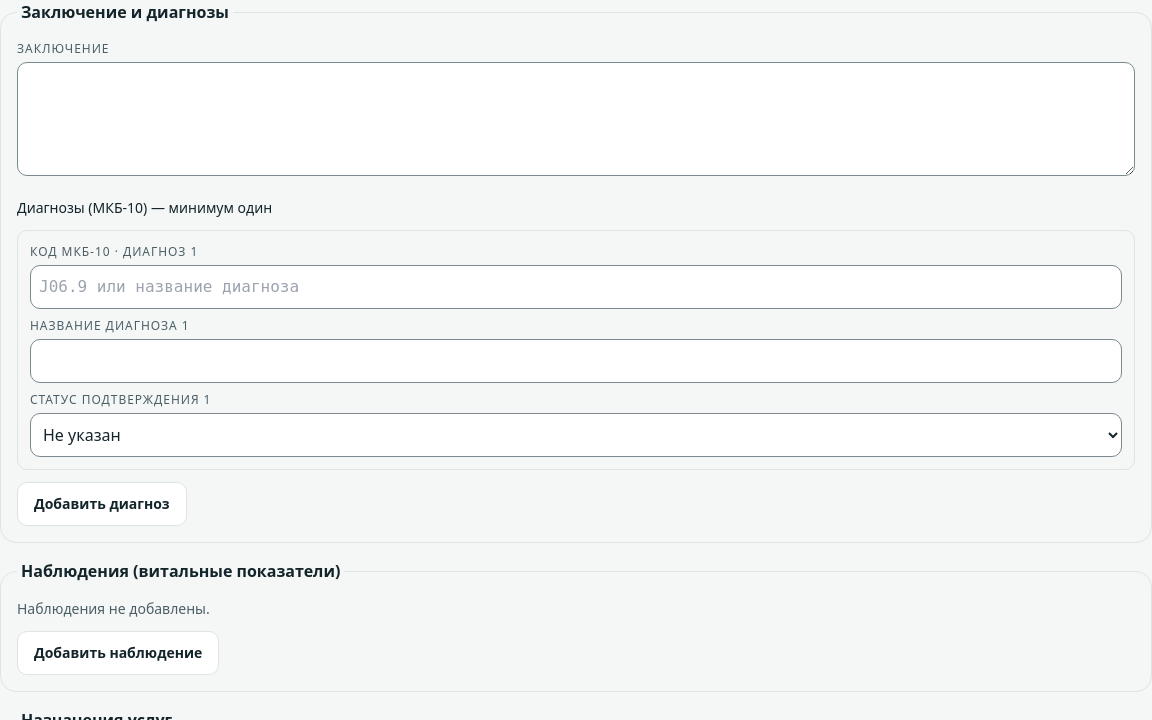
Test: EncounterCompleteForm server errors › should mark the rejected diagnosis code and focus it when the server answers INVALID_ICD10_CODE
Type "ОРВИ, состояние удовлетворительное" into the text box labelled "Заключение" at point(576, 119), box [17, 62, 1135, 176]
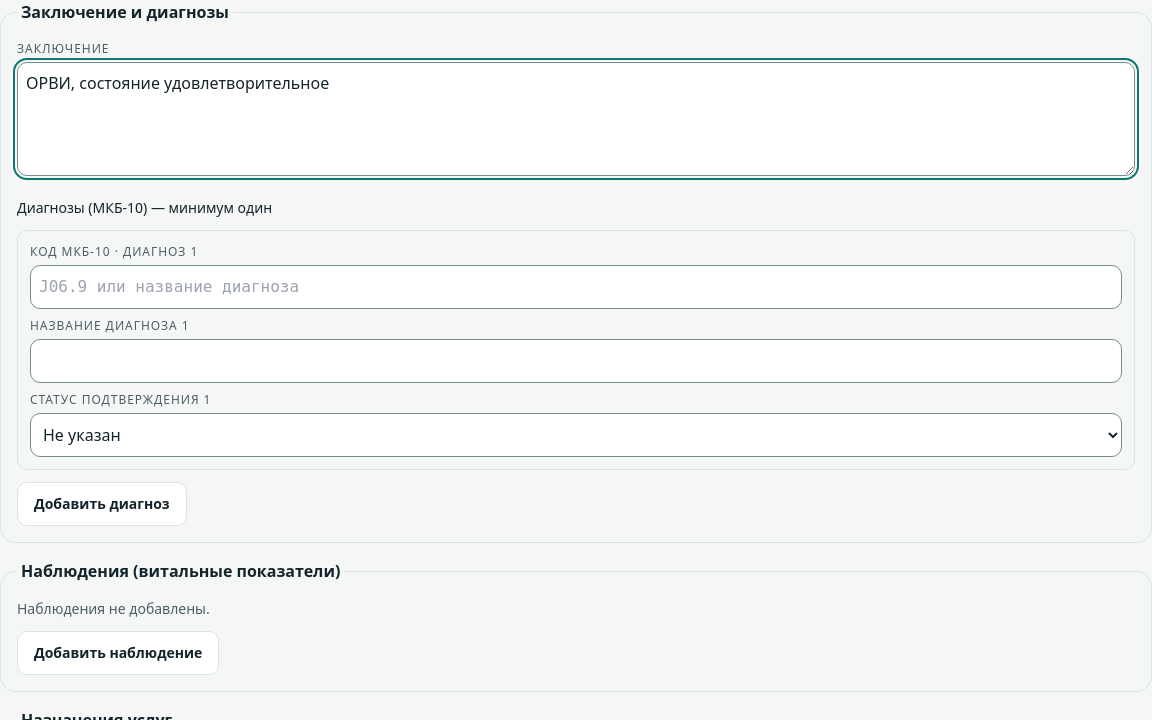
Type "Острый назофарингит" into the field labelled "Название диагноза 1" at point(576, 361), box [30, 339, 1122, 383]
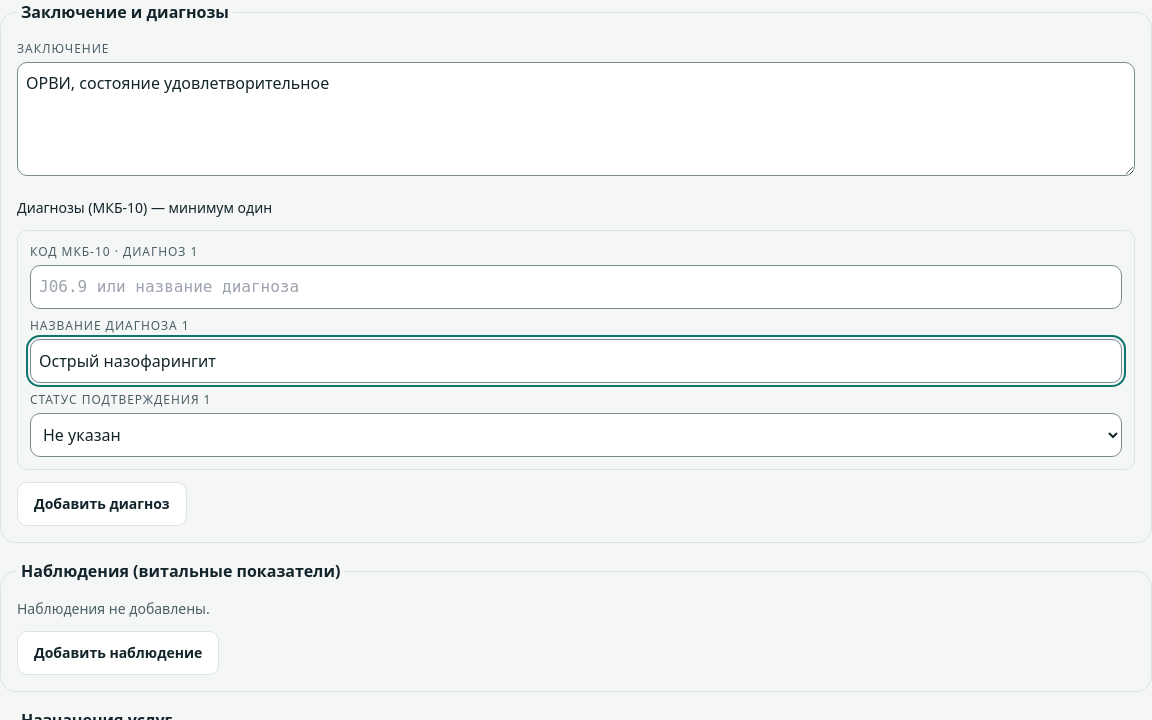
Type "J06.9" into the dropdown labelled "Код МКБ-10 · диагноз 1" at point(576, 287), box [30, 265, 1122, 309]
(page scrolled)
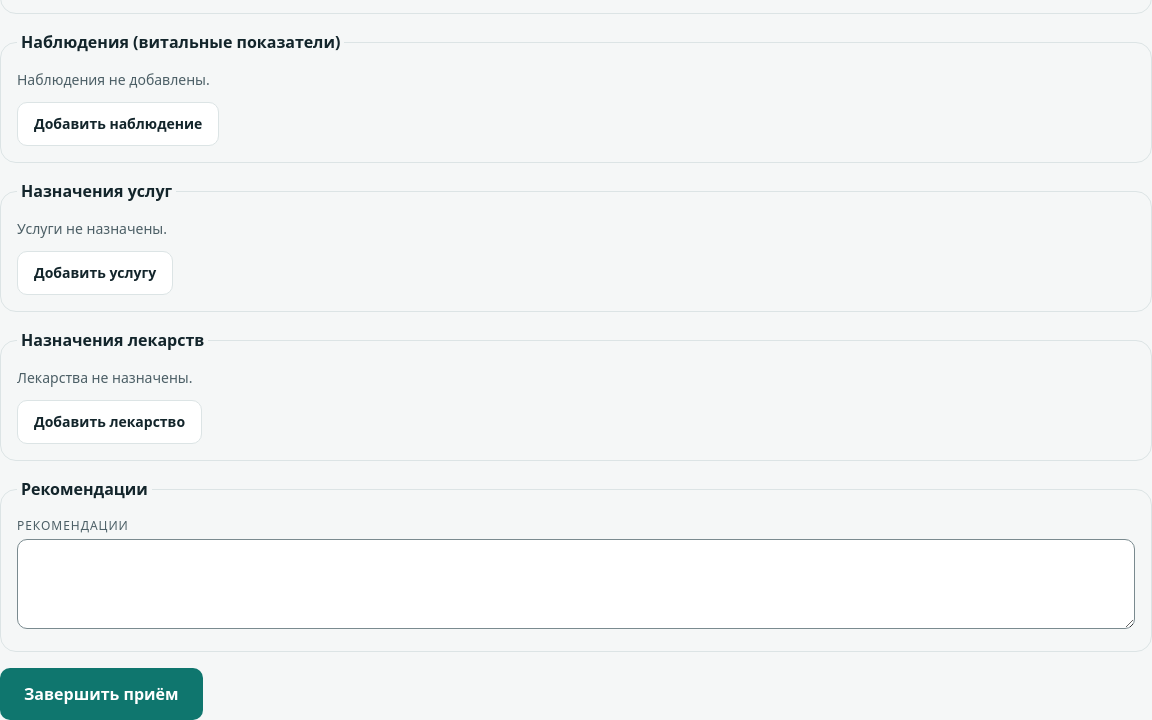
Type "Покой, обильное питьё" into the text box labelled "Рекомендации" at point(576, 584), box [17, 539, 1135, 629]
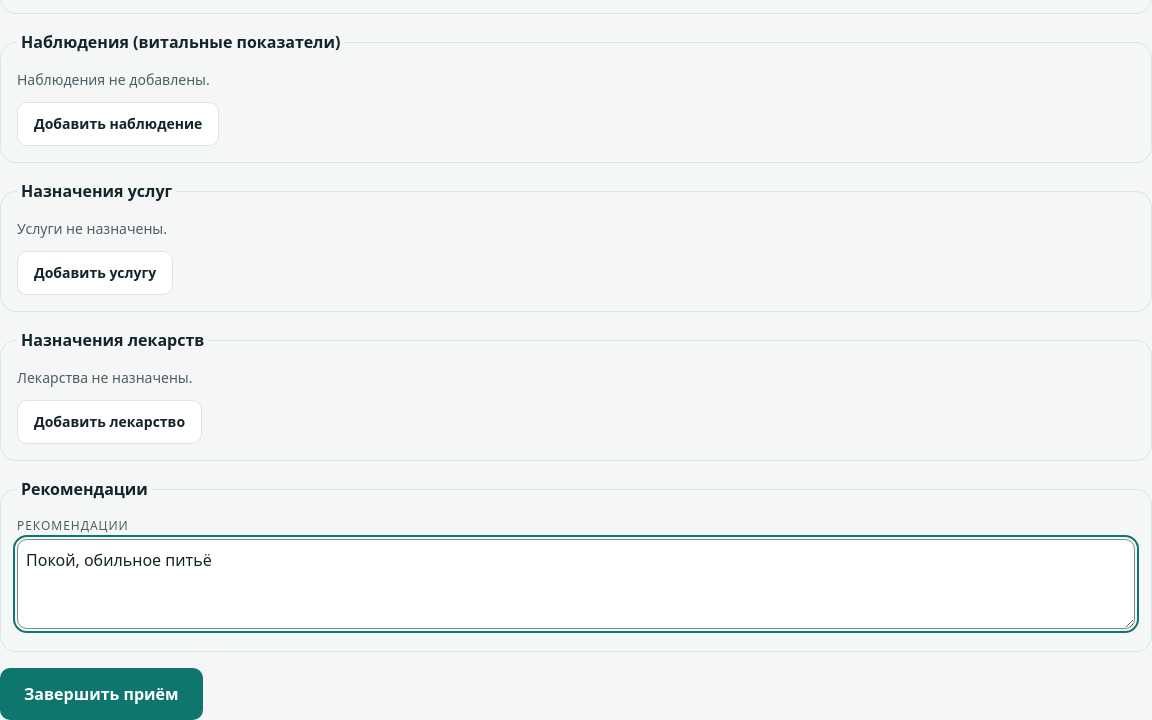
Click the button "Завершить приём" at point(101, 694), box [0, 668, 203, 719]
(page scrolled)
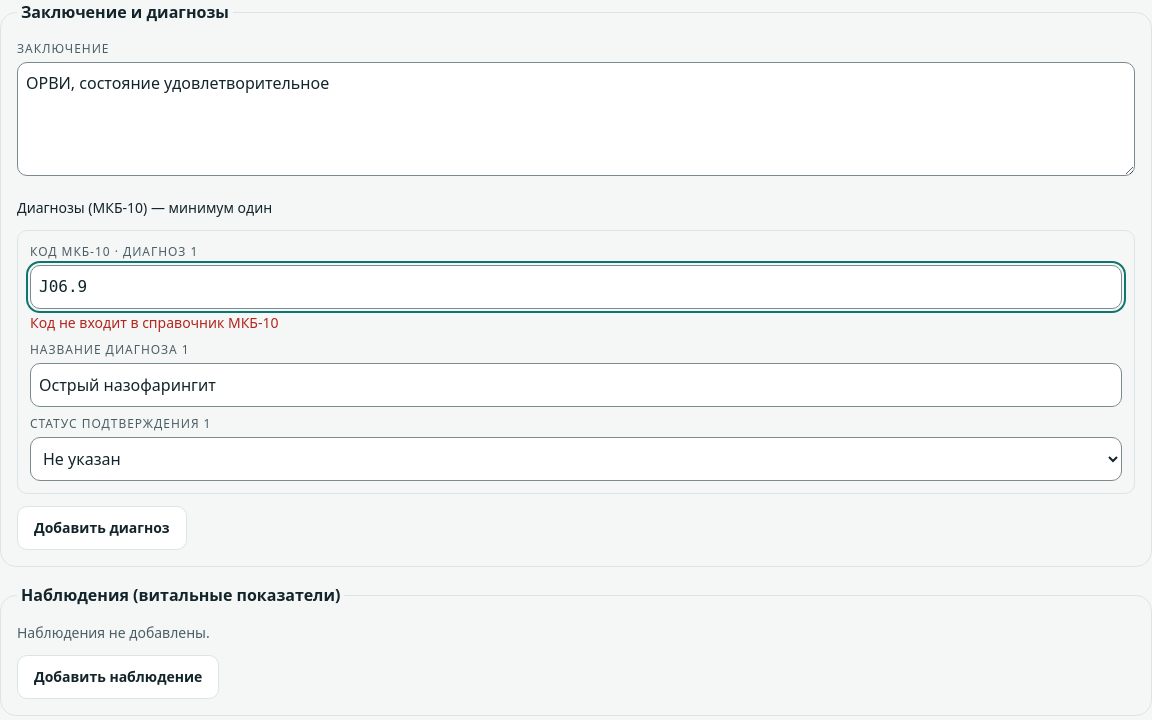
Result: the text "Код не входит в справочник МКБ-10" is shown at [30, 313, 278, 332]
